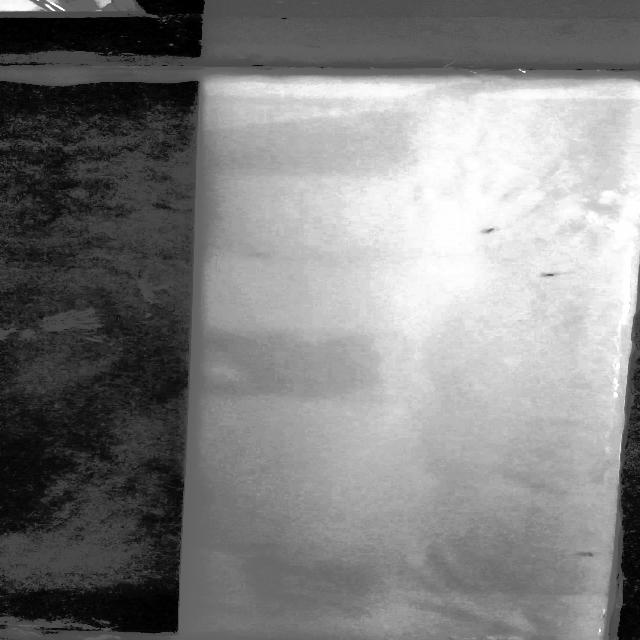shrimp: (473, 220, 518, 238), (539, 265, 576, 281), (560, 545, 600, 559)
